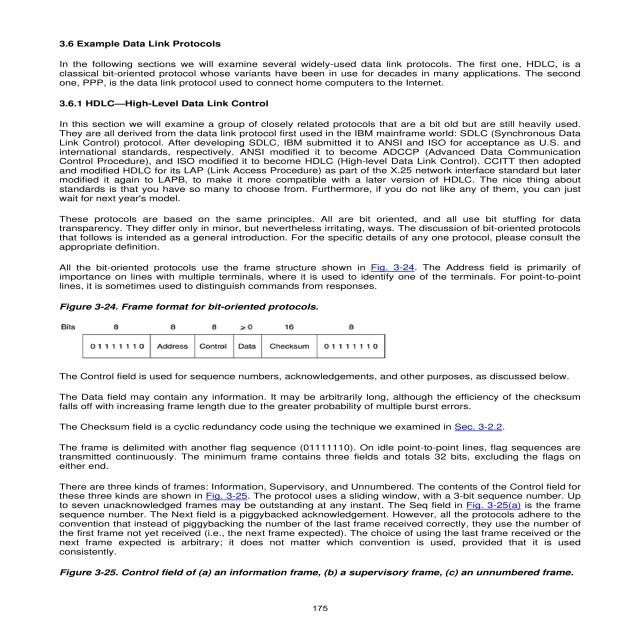diagram: (24, 295, 437, 368)
